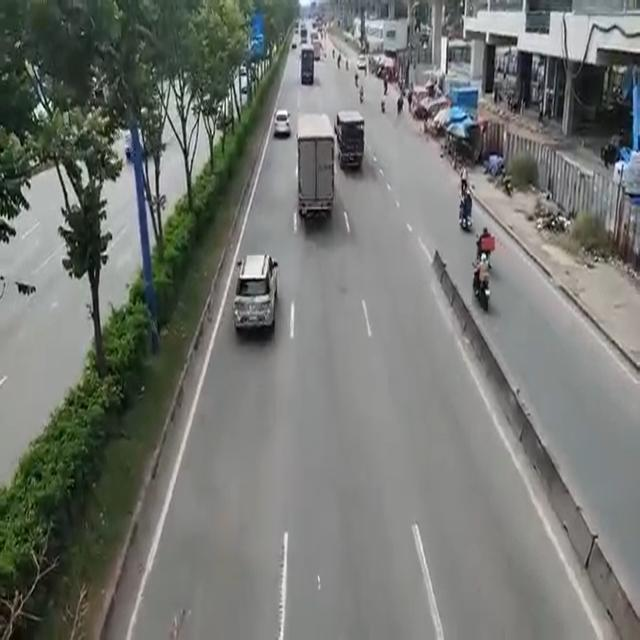car: (237, 254, 268, 336), (274, 106, 288, 134)
truck: (298, 113, 334, 218), (336, 107, 365, 173), (298, 44, 314, 86)
